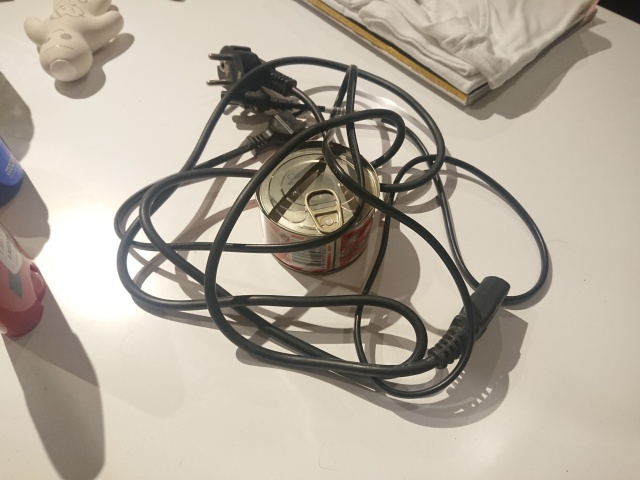Podravka Luncheon Meat 150g: (250, 136, 383, 279)
